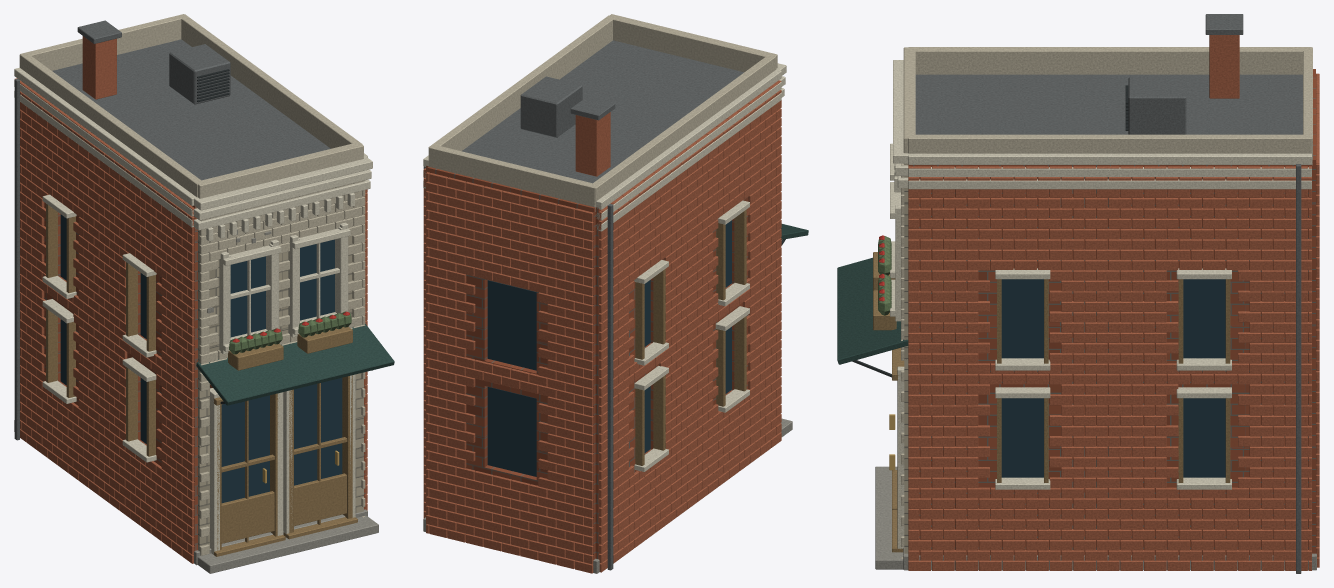
File: BUSS8_lod0.glb
3 views of the same model, side by side, from view 1: azimuth 30°, elevation 25°; view 2: azimuth 150°, elevation 25°; view 3: azimuth 270°, elevation 25° (orthographic). The views are drawn at different scales.
Parts seen in each view (by area): view 1: BUSS8_LOD0; view 2: BUSS8_LOD0; view 3: BUSS8_LOD0.
Boxes of the visible parts, x1,y1,x2,y2 form: BUSS8_LOD0: [14, 14, 394, 573]; BUSS8_LOD0: [423, 14, 808, 573]; BUSS8_LOD0: [837, 14, 1319, 573].
Size of the model in its own units: 3.71 by 7.85 by 7.17.
Materials: 19 (16 with a texture image).
